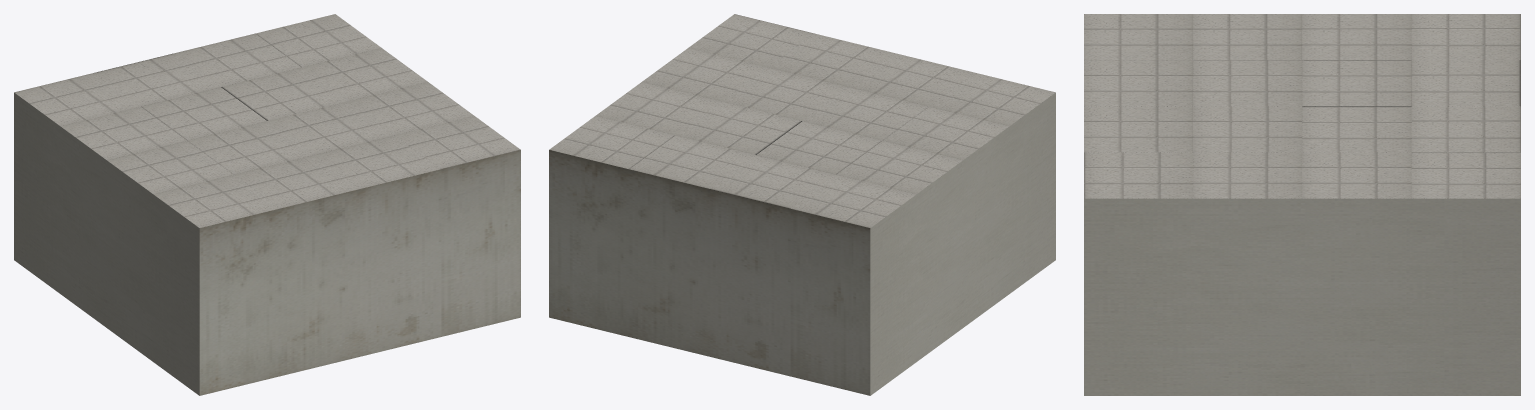
File: hospitalRoom.glb
3 renders of one model, left to right at view 1: azimuth 30°, elevation 25°; view 2: azimuth 150°, elevation 25°; view 3: azimuth 270°, elevation 25°, orthographic. The views are drawn at different scales.
Visible parts, largest first — view 1: Cube; view 2: Cube; view 3: Cube.
Part boxes in pixels (box(x1,y1,x2,y2)): Cube: box(14, 14, 520, 395); Cube: box(549, 14, 1055, 395); Cube: box(1084, 14, 1520, 395).
Size of the model in its own units: 24.37 by 12.16 by 24.37.
1 material, 1 textured.
